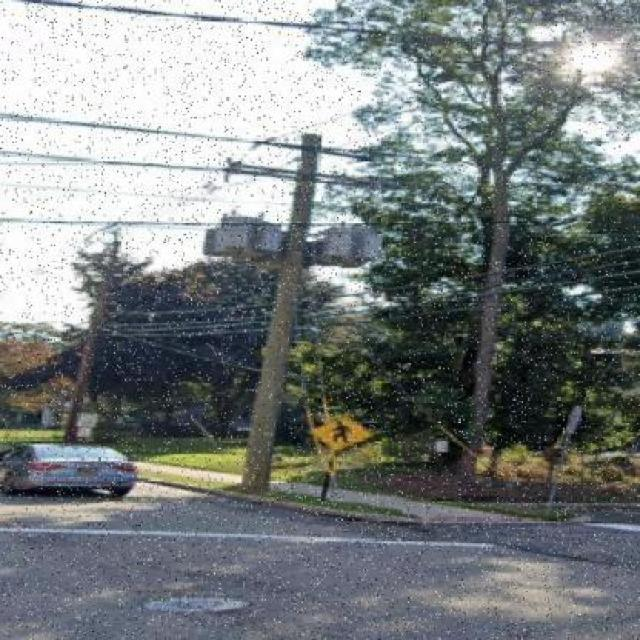light_pole: (154, 75, 437, 522)
